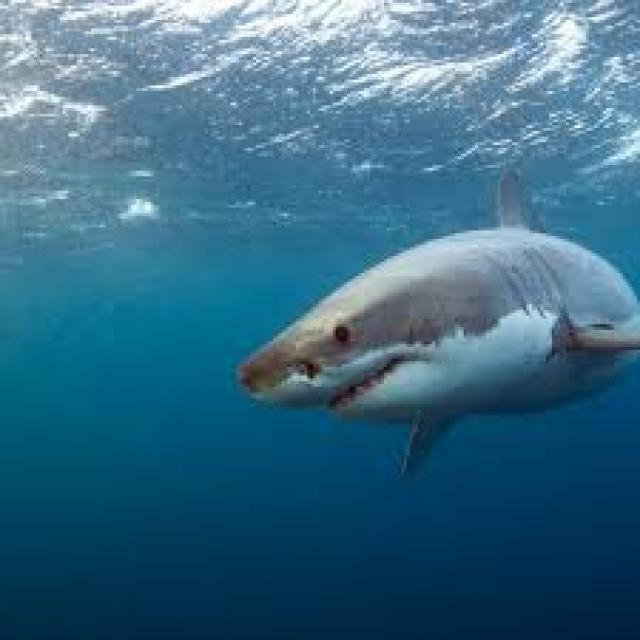shark: (239, 174, 637, 472)
